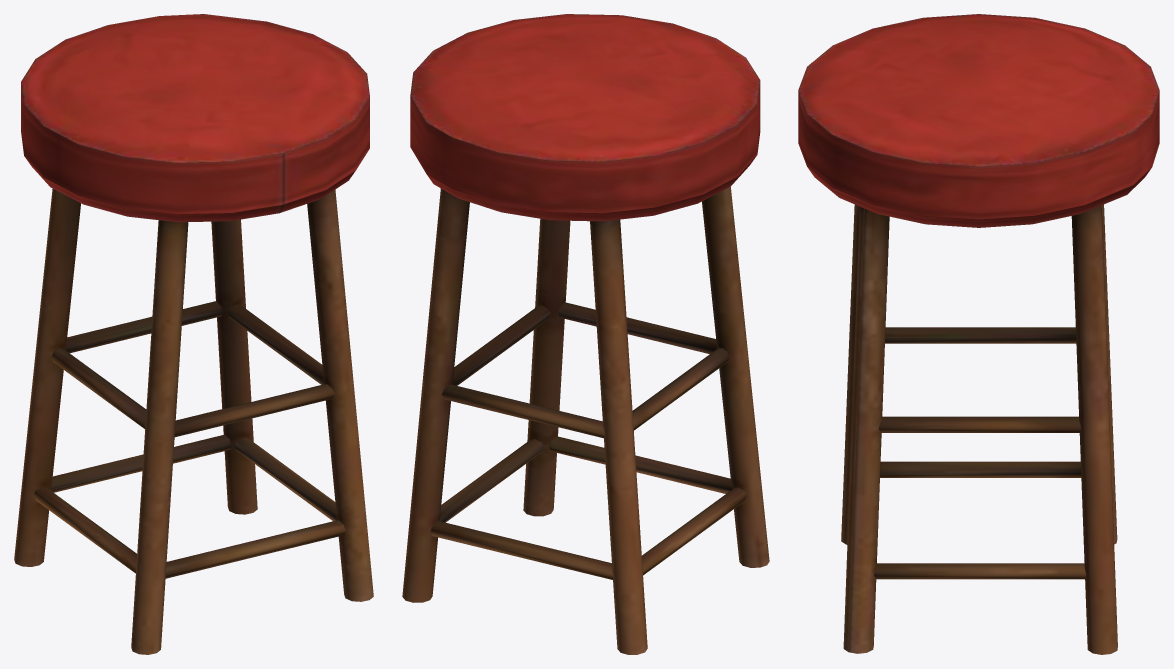
Rendered from bar-stool.lod0.glb.
The picture shows the model from 3 angles, left to right: view 1: azimuth 30°, elevation 25°; view 2: azimuth 150°, elevation 25°; view 3: azimuth 270°, elevation 25°; orthographic projection. The views are drawn at different scales.
Parts seen in each view (by area): view 1: Object_5; view 2: Object_5; view 3: Object_5.
Part boxes in pixels (bbox=[...]): Object_5: bbox=[14, 14, 373, 654]; Object_5: bbox=[402, 14, 769, 654]; Object_5: bbox=[798, 14, 1159, 654].
Bounding box in the file's own units: 0.5102 × 0.8 × 0.5102.
1 material, 1 textured.
